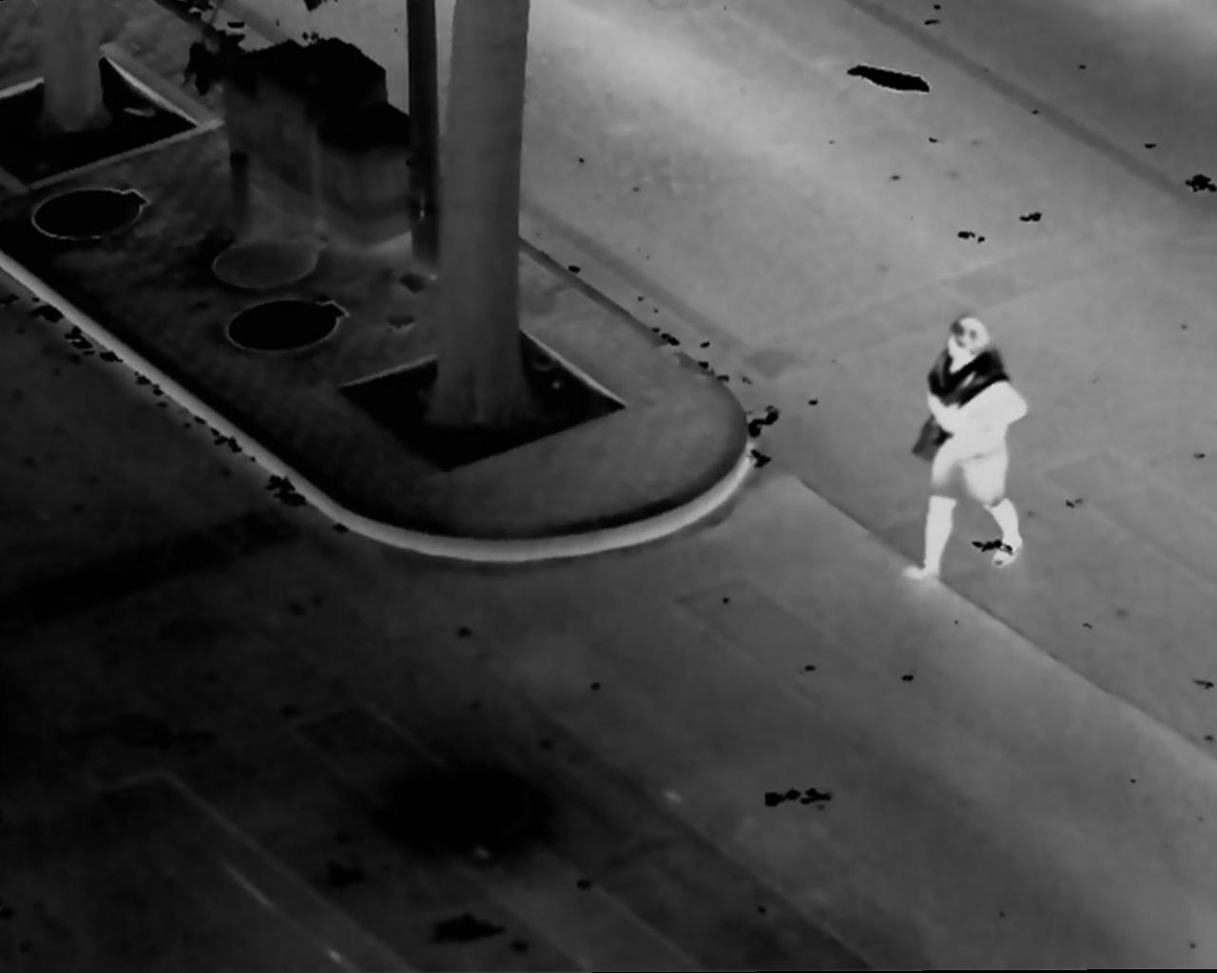person: (910, 315, 1029, 590)
